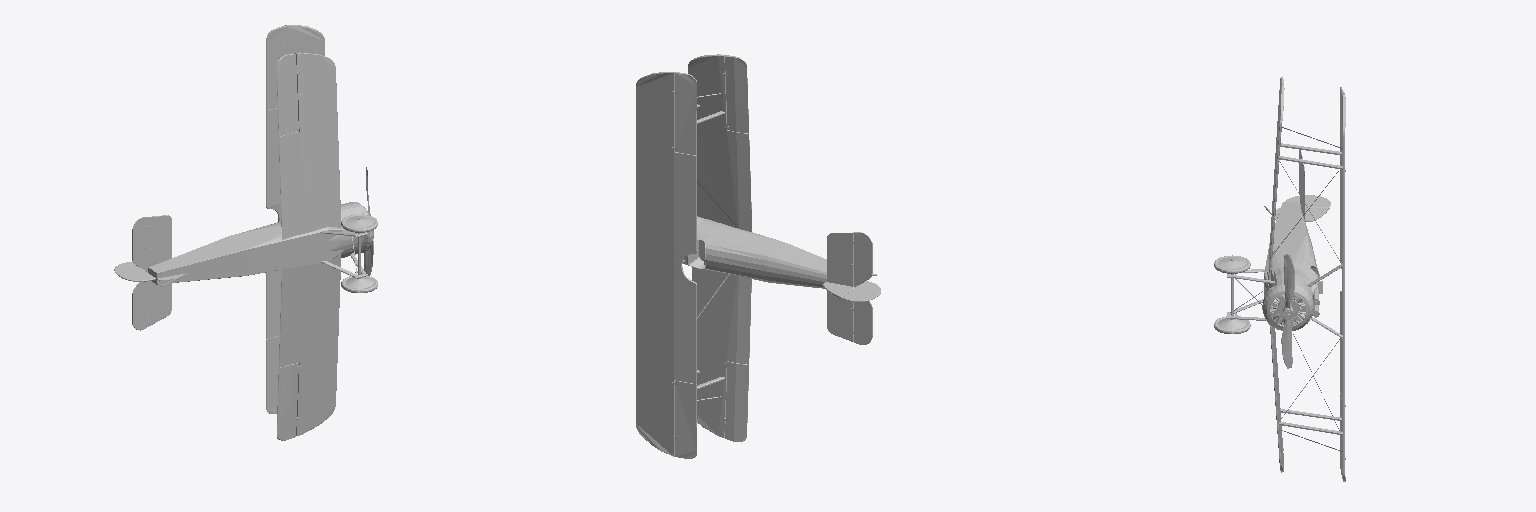
Rendered from fancy_plane.obj.
3 views of the same model, side by side, from view 1: azimuth 30°, elevation 25°; view 2: azimuth 150°, elevation 25°; view 3: azimuth 270°, elevation 25° (orthographic).
Visible parts, largest first — view 1: something, Spowith_f1_camel_D2, Spowith_f1_camel_cauda, Spowith_f1_camel_E2, Spowith_f1_camel_D1, Spowith_f1_camel_E1, Spowith_f1_camel_Roda; view 2: something, Spowith_f1_camel_D1, Spowith_f1_camel_E2, Spowith_f1_camel_cauda, Spowith_f1_camel_E1, Spowith_f1_camel_D2; view 3: something, Spowith_f1_camel_helix, Spowith_f1_camel_Roda.
Part boxes in pixels (bbox=[...]): something: bbox=[145, 25, 373, 435]; Spowith_f1_camel_D2: bbox=[277, 53, 298, 136]; Spowith_f1_camel_cauda: bbox=[132, 217, 148, 330]; Spowith_f1_camel_E2: bbox=[277, 363, 298, 440]; Spowith_f1_camel_D1: bbox=[266, 25, 285, 110]; Spowith_f1_camel_E1: bbox=[266, 336, 279, 413]; Spowith_f1_camel_Roda: bbox=[341, 215, 377, 232]; something: bbox=[636, 54, 876, 456]; Spowith_f1_camel_D1: bbox=[675, 72, 696, 155]; Spowith_f1_camel_E2: bbox=[725, 361, 748, 441]; Spowith_f1_camel_cauda: bbox=[854, 232, 872, 344]; Spowith_f1_camel_E1: bbox=[675, 380, 696, 458]; Spowith_f1_camel_D2: bbox=[725, 55, 748, 133]; something: bbox=[1227, 85, 1345, 481]; Spowith_f1_camel_helix: bbox=[1281, 254, 1294, 368]; Spowith_f1_camel_Roda: bbox=[1214, 255, 1250, 273].
Bounding box in the file's own units: 44.37 × 66.2 × 20.66.